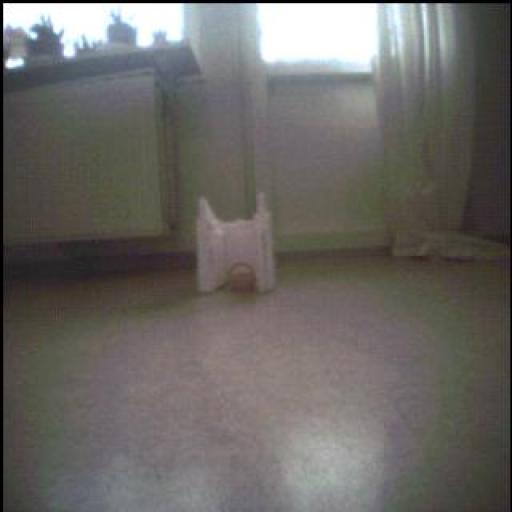Basket: (228, 264, 257, 298)
